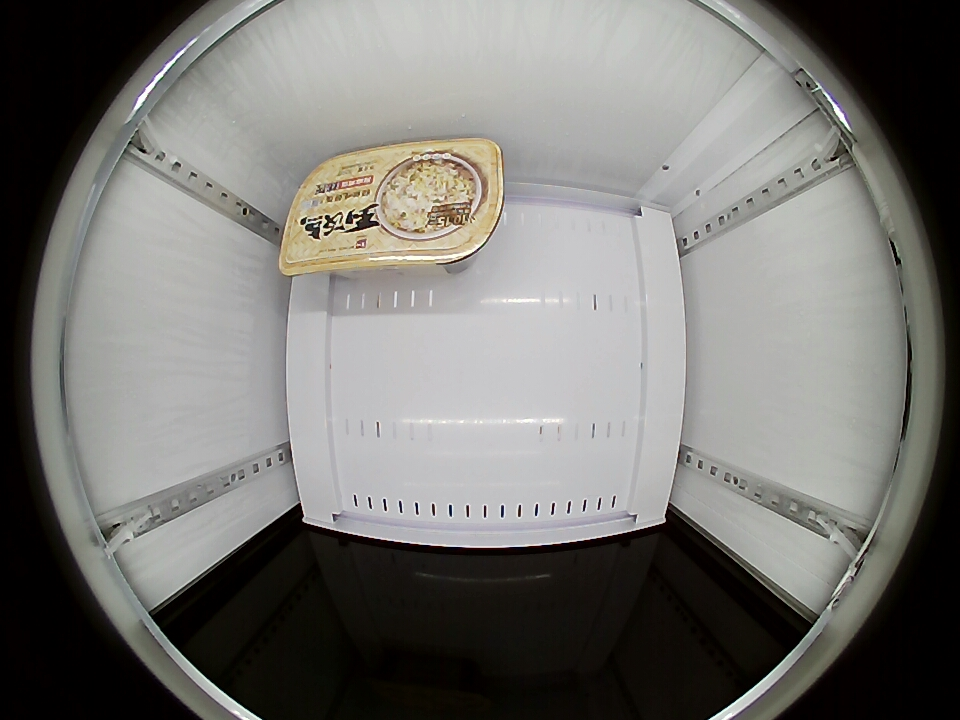daofandian1: (278, 138, 507, 275)
